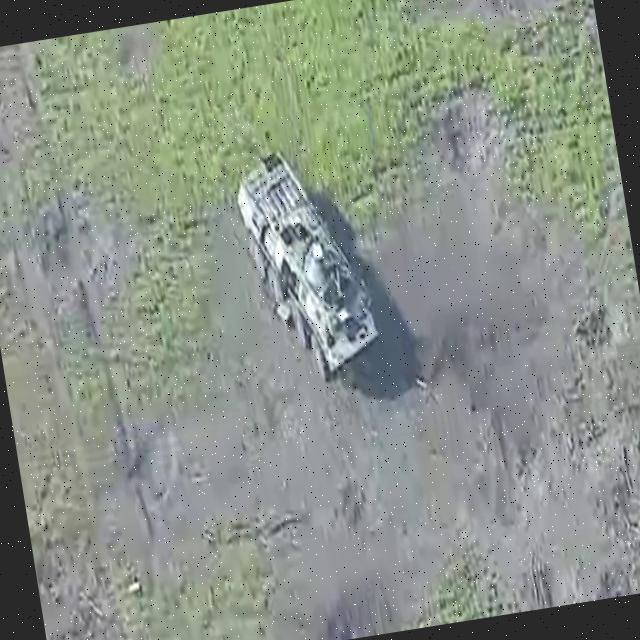APC: (223, 138, 390, 396)
